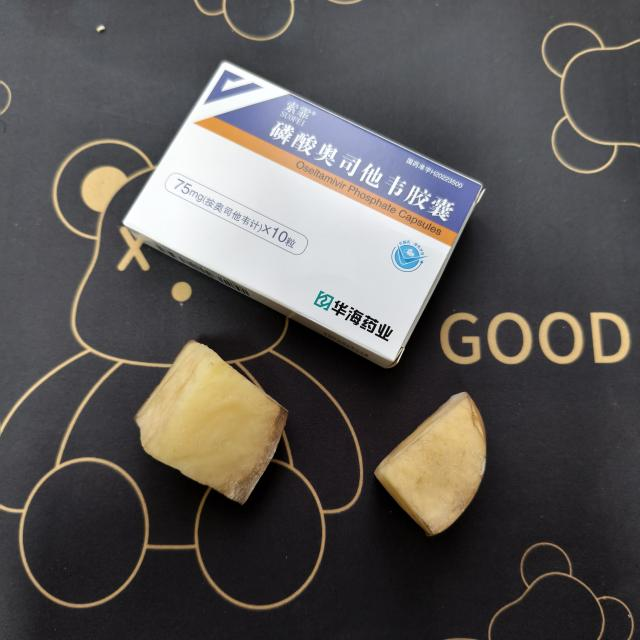-Kitchen waste - potato-: (133, 336, 290, 502), (375, 394, 491, 533)
-Recyclables - paper box-: (125, 56, 489, 362)
